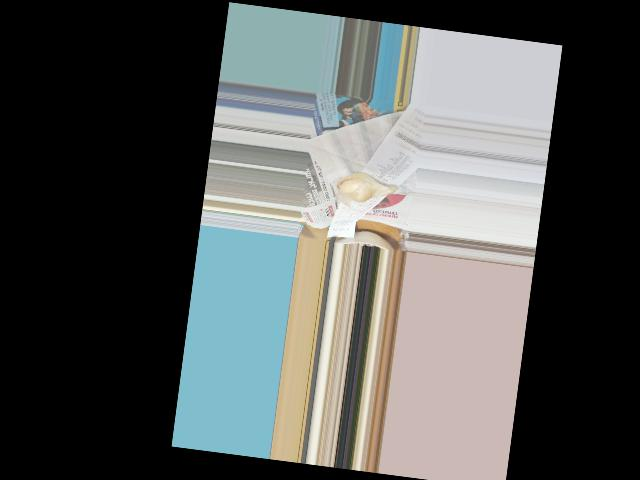onion: (335, 171, 391, 204)
